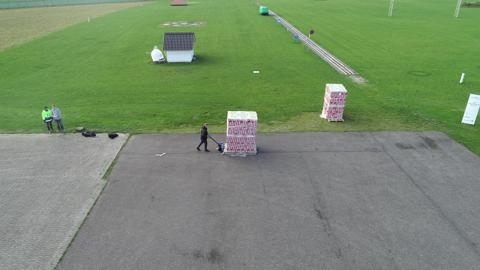RockwoolPallet: (225, 111, 257, 153)
